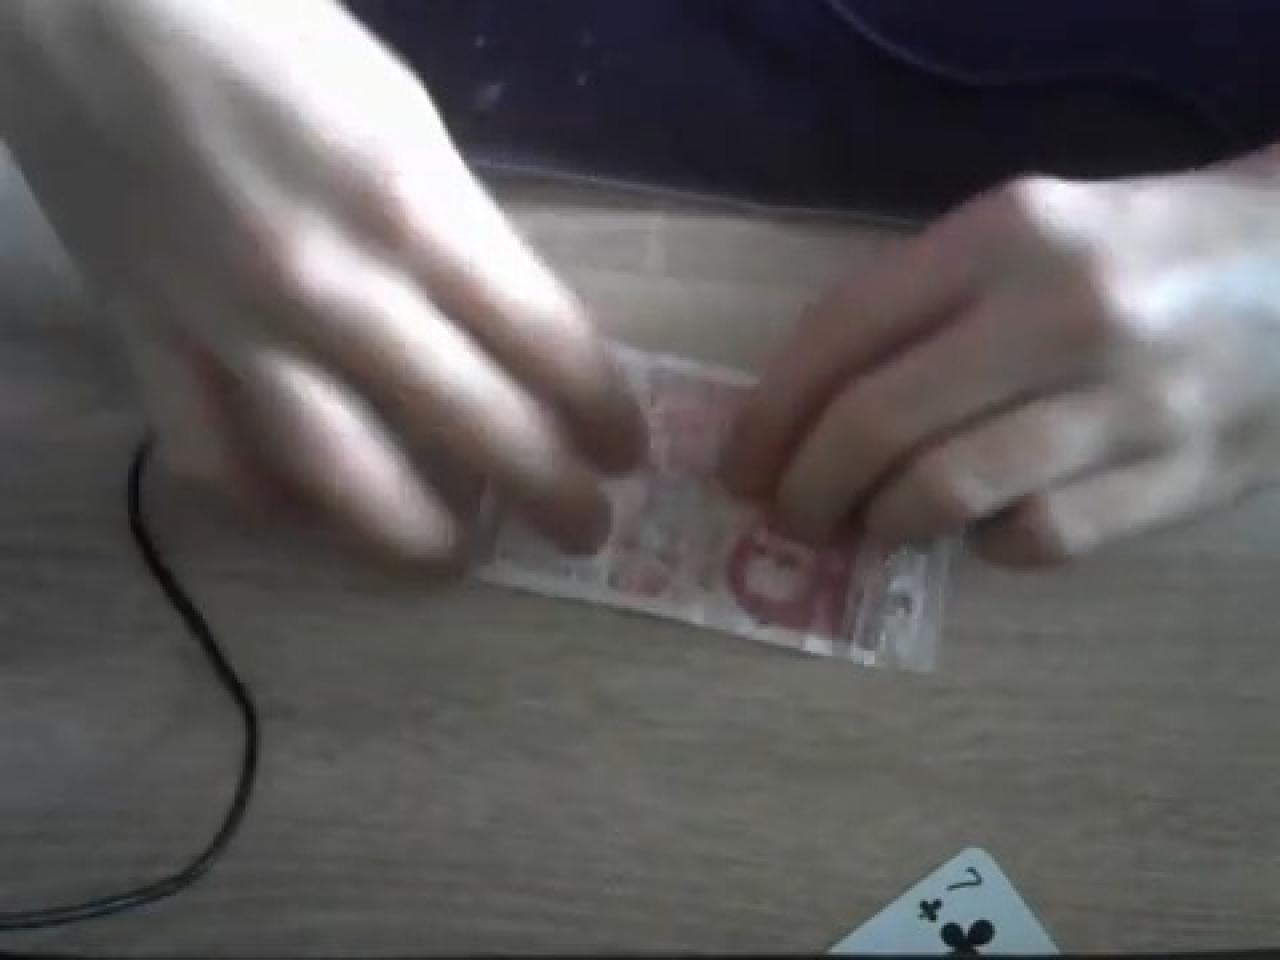5leva: (603, 349, 946, 672)
